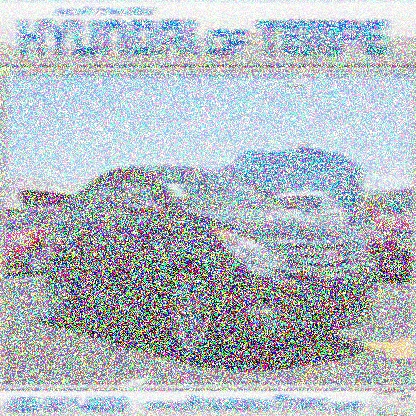Vehicle: (41, 158, 378, 362)
